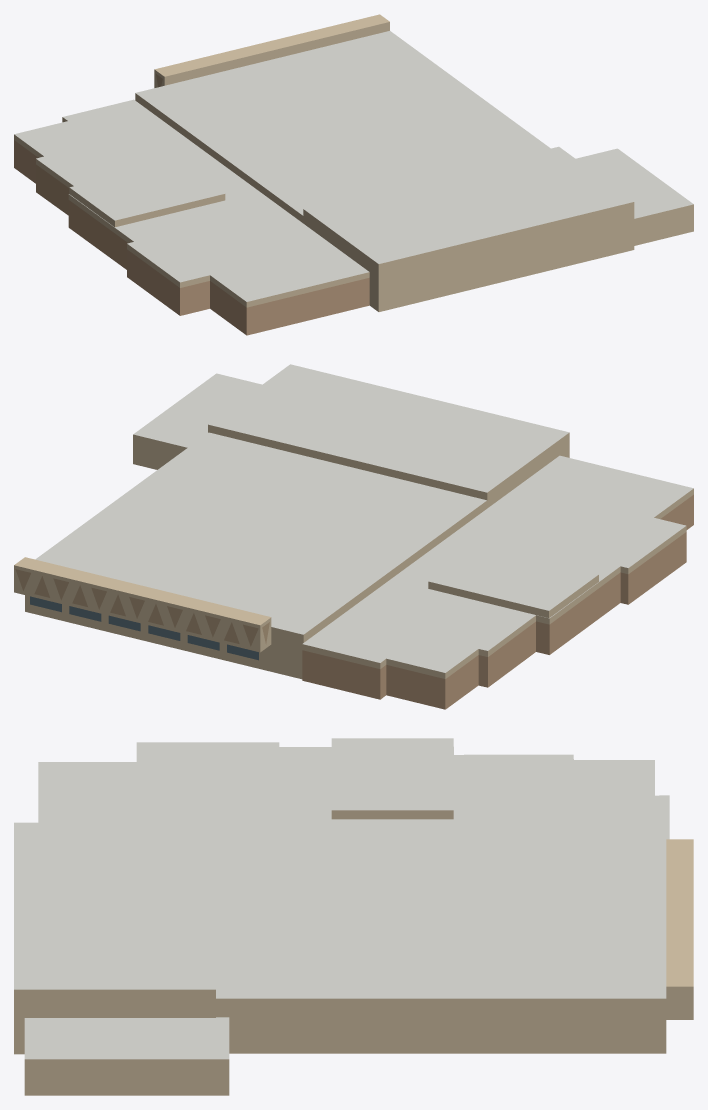
File: phx-convention-center-south.glb
3 views of the same model, one above another, from view 1: azimuth 30°, elevation 25°; view 2: azimuth 150°, elevation 25°; view 3: azimuth 270°, elevation 25° (orthographic). The views are drawn at different scales.
Parts seen in each view (by area): view 1: Phoenix Convention Center South Building; view 2: Phoenix Convention Center South Building; view 3: Phoenix Convention Center South Building.
Boxes of the visible parts, box(x1,y1,x2,y2) form: Phoenix Convention Center South Building: box(14, 14, 693, 335); Phoenix Convention Center South Building: box(14, 364, 693, 709); Phoenix Convention Center South Building: box(14, 738, 693, 1095).
Bounding box in the file's own units: 177 × 17.9 × 165.
